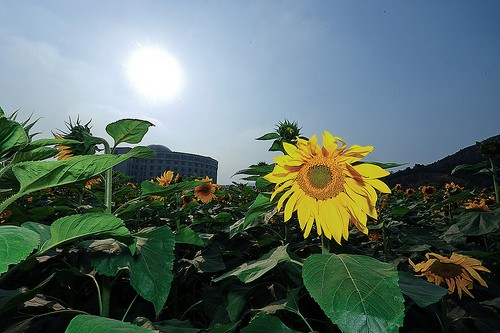flower: (262, 129, 393, 244), (406, 251, 493, 304), (189, 178, 219, 203)
